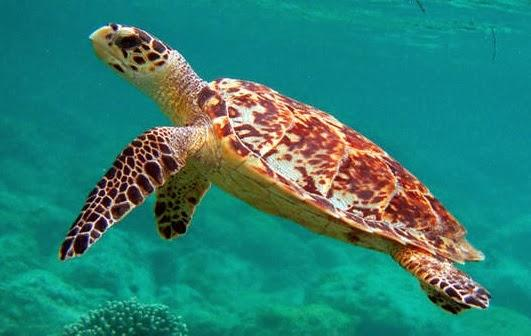turtle: (86, 18, 184, 92)
